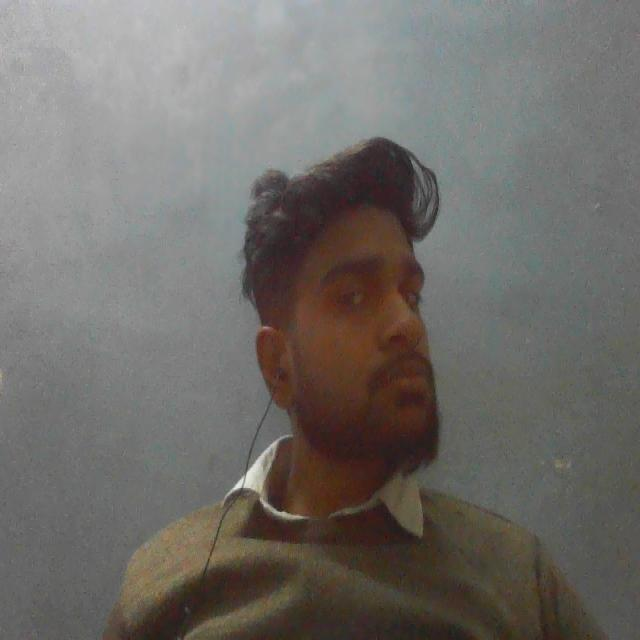real: (269, 123, 444, 453)
